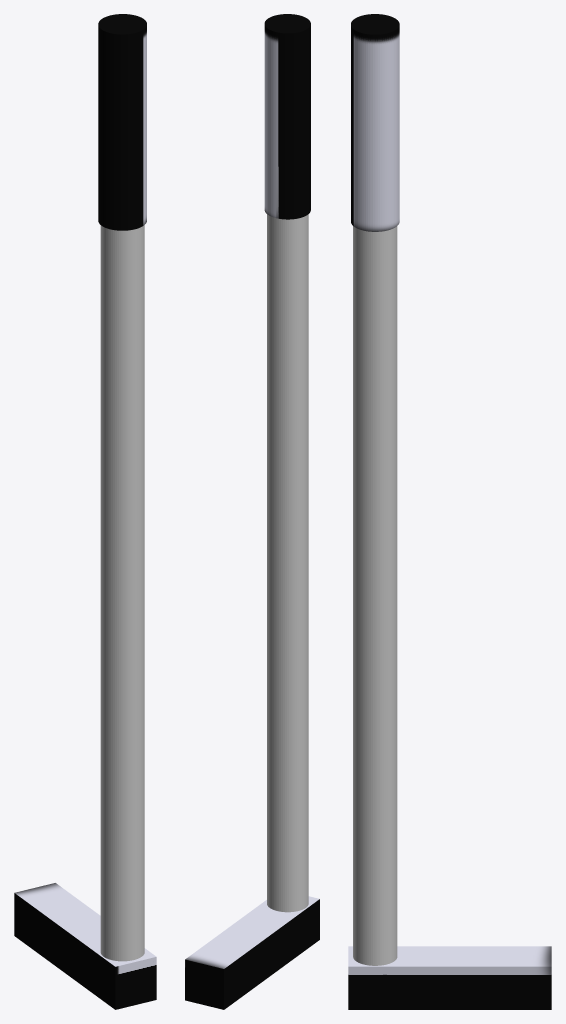
File: GolfClub.fbx
3 renders of one model, left to right at view 1: azimuth 30°, elevation 25°; view 2: azimuth 150°, elevation 25°; view 3: azimuth 270°, elevation 25°, orthographic. The views are drawn at different scales.
Visible parts, largest first — view 1: Cylinder, Cylinder.001, Cube; view 2: Cylinder, Cylinder.001, Cube; view 3: Cylinder, Cube, Cylinder.001.
Boxes of the visible parts, <box> form: Cylinder: <box>100,225,144,961</box>; Cylinder.001: <box>98,14,146,230</box>; Cube: <box>14,883,156,1009</box>; Cylinder: <box>267,214,308,912</box>; Cylinder.001: <box>264,14,310,219</box>; Cube: <box>185,896,319,1009</box>; Cylinder: <box>353,226,397,965</box>; Cube: <box>348,946,551,1009</box>; Cylinder.001: <box>351,14,399,231</box>.
Size of the model in its own units: 4.44 by 97.02 by 18.31.
Materials: 3 (2 with a texture image).
